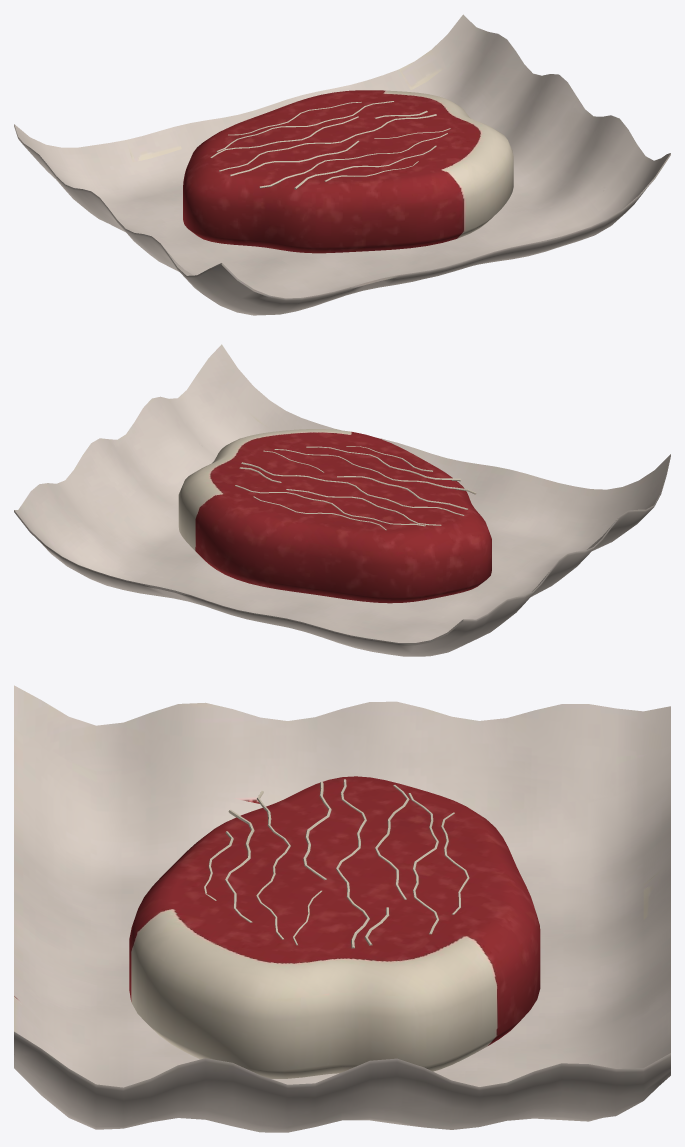
Rendered from carne_crua.glb.
3 views of the same model, one above another, from view 1: azimuth 30°, elevation 25°; view 2: azimuth 150°, elevation 25°; view 3: azimuth 270°, elevation 25° (orthographic). The views are drawn at different scales.
Parts seen in each view (by area): view 1: papel, carne; view 2: papel, carne; view 3: papel, carne.
Part boxes in pixels (box(x1,y1,x2,y2)): papel: box(14, 14, 670, 315); carne: box(183, 90, 513, 253); papel: box(14, 344, 670, 656); carne: box(178, 429, 491, 603); papel: box(14, 685, 670, 1132); carne: box(129, 776, 540, 1078).
Size of the model in its own units: 0.26 by 0.0472 by 0.2.
1 material, 1 textured.
